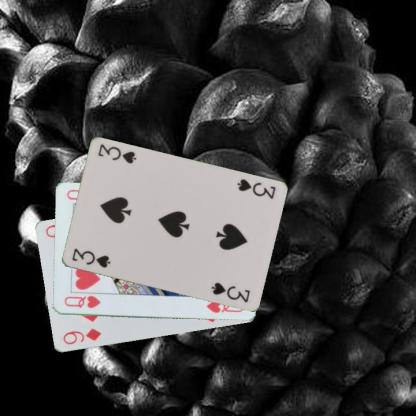3s: (234, 176, 277, 201), (69, 246, 112, 269)
9d: (60, 326, 102, 346)
Qh: (61, 293, 102, 310)
